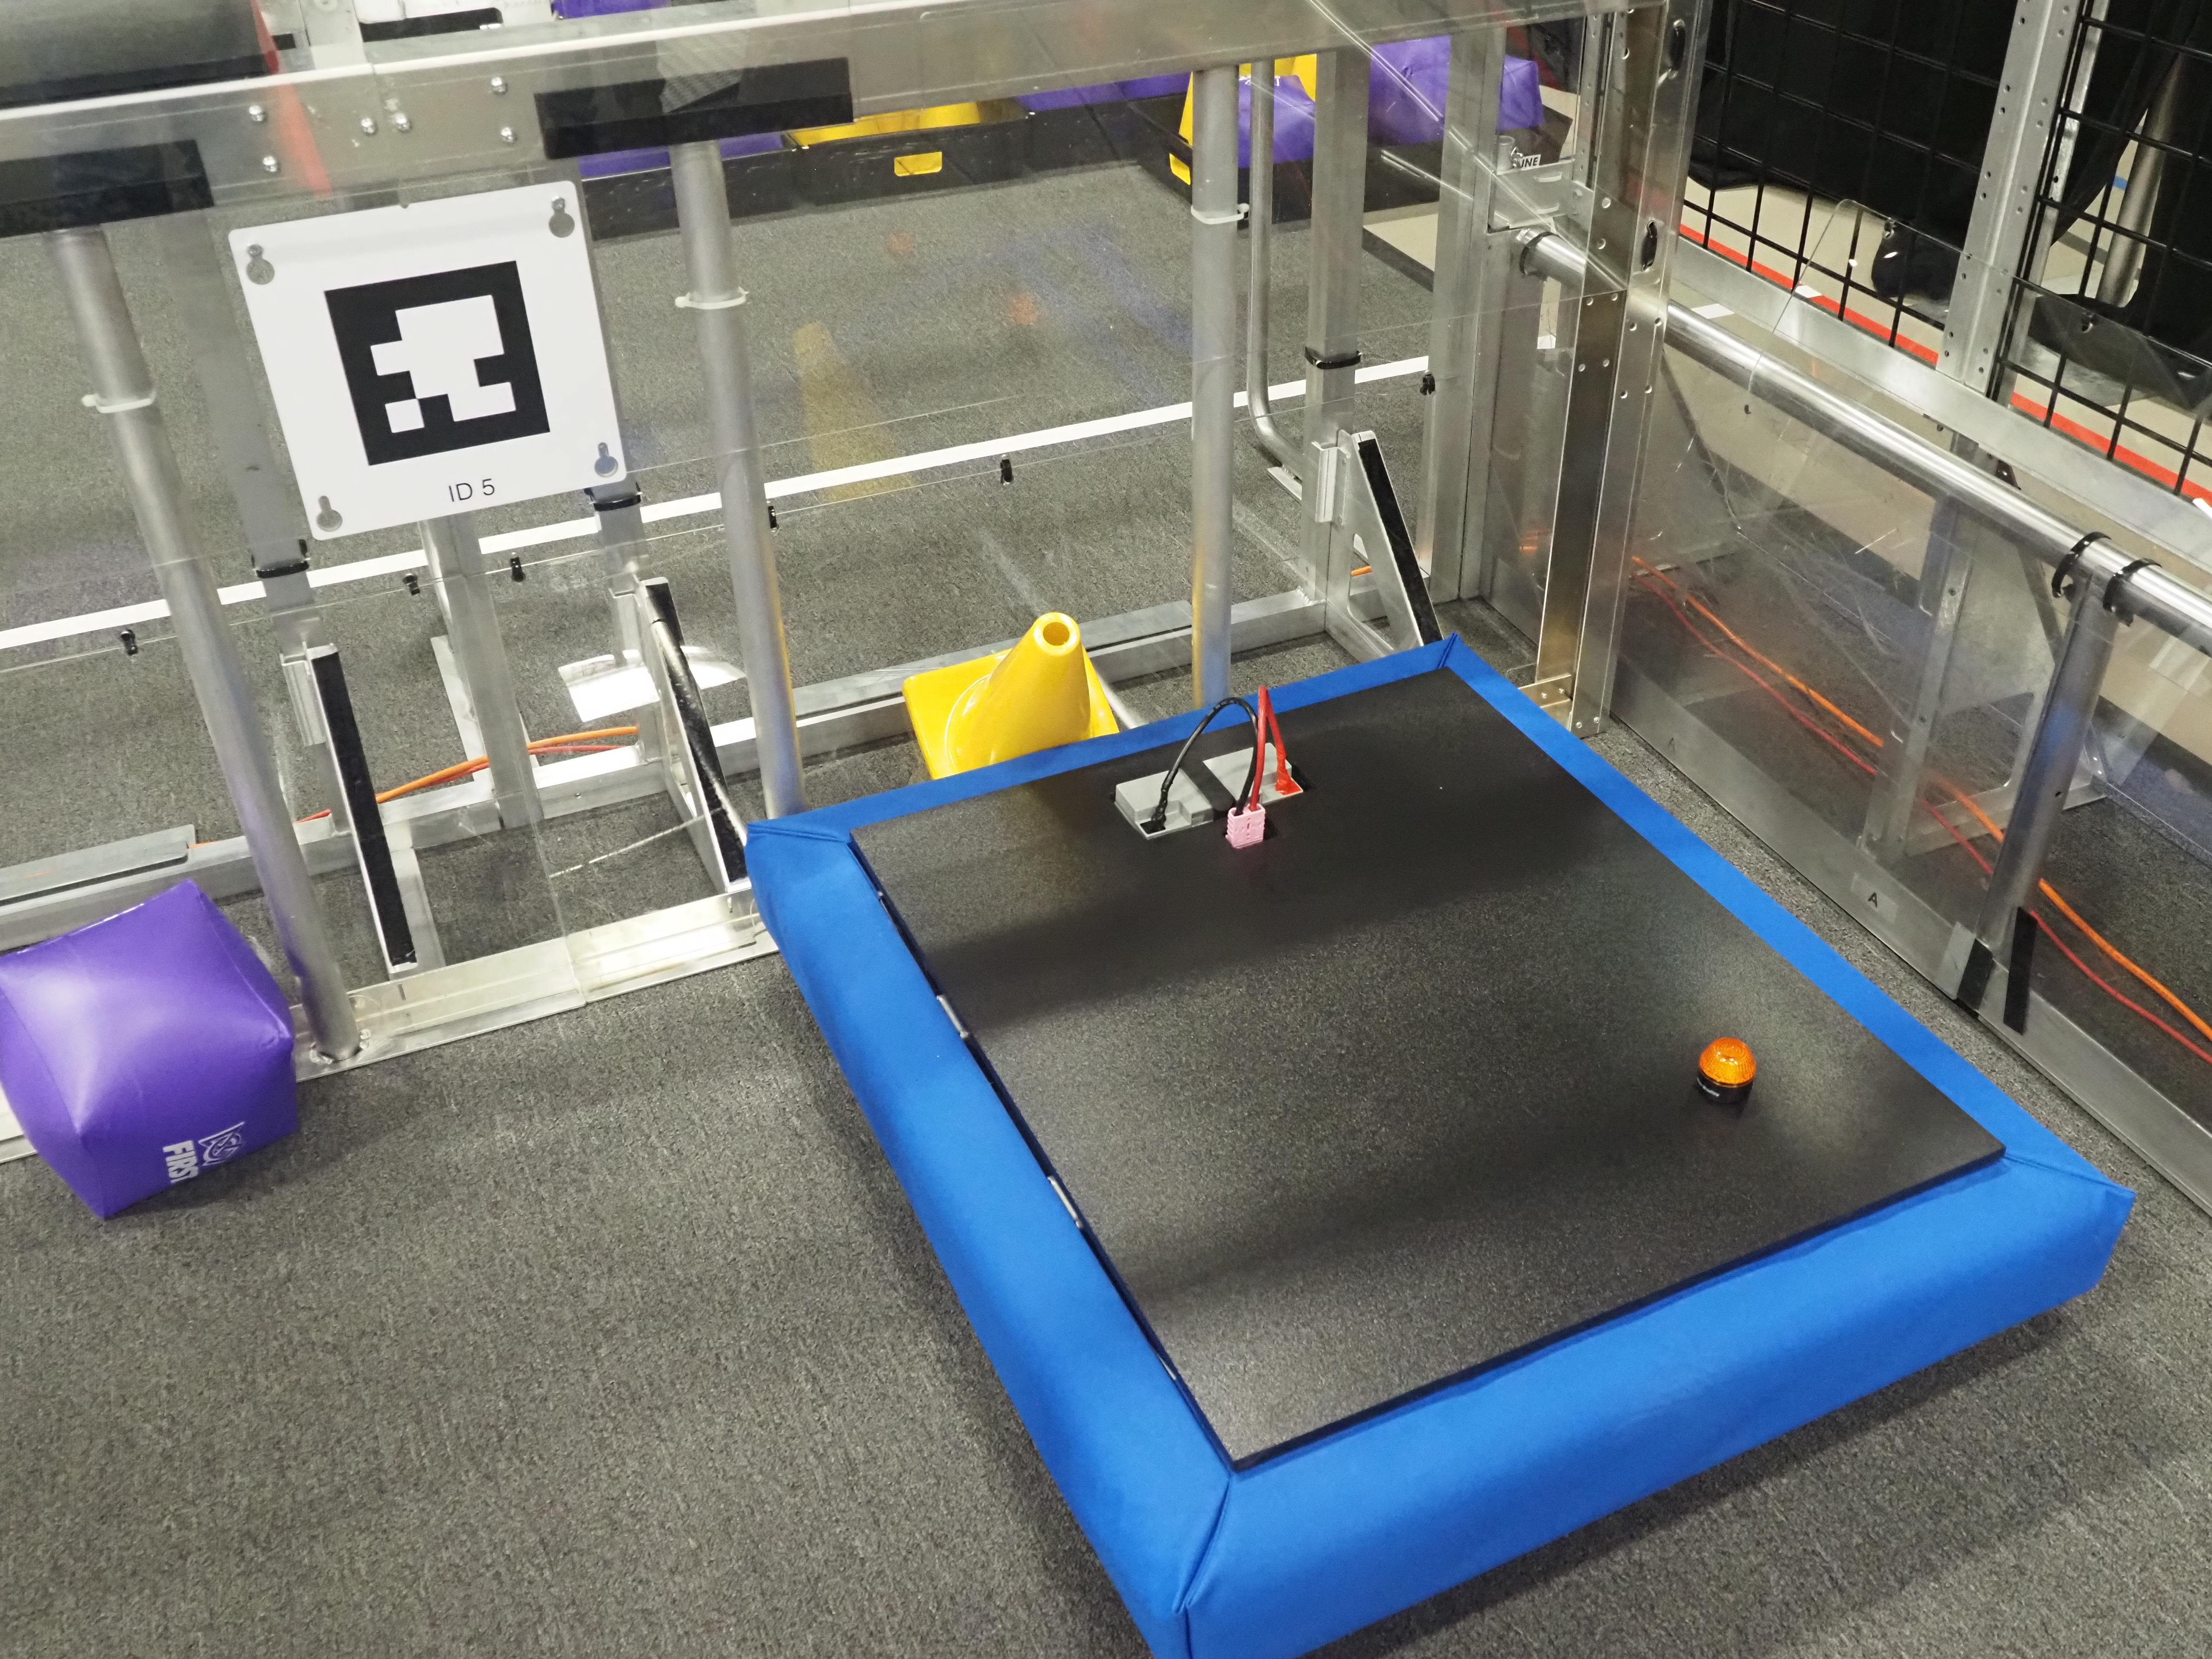robot: (730, 617, 2141, 1650)
